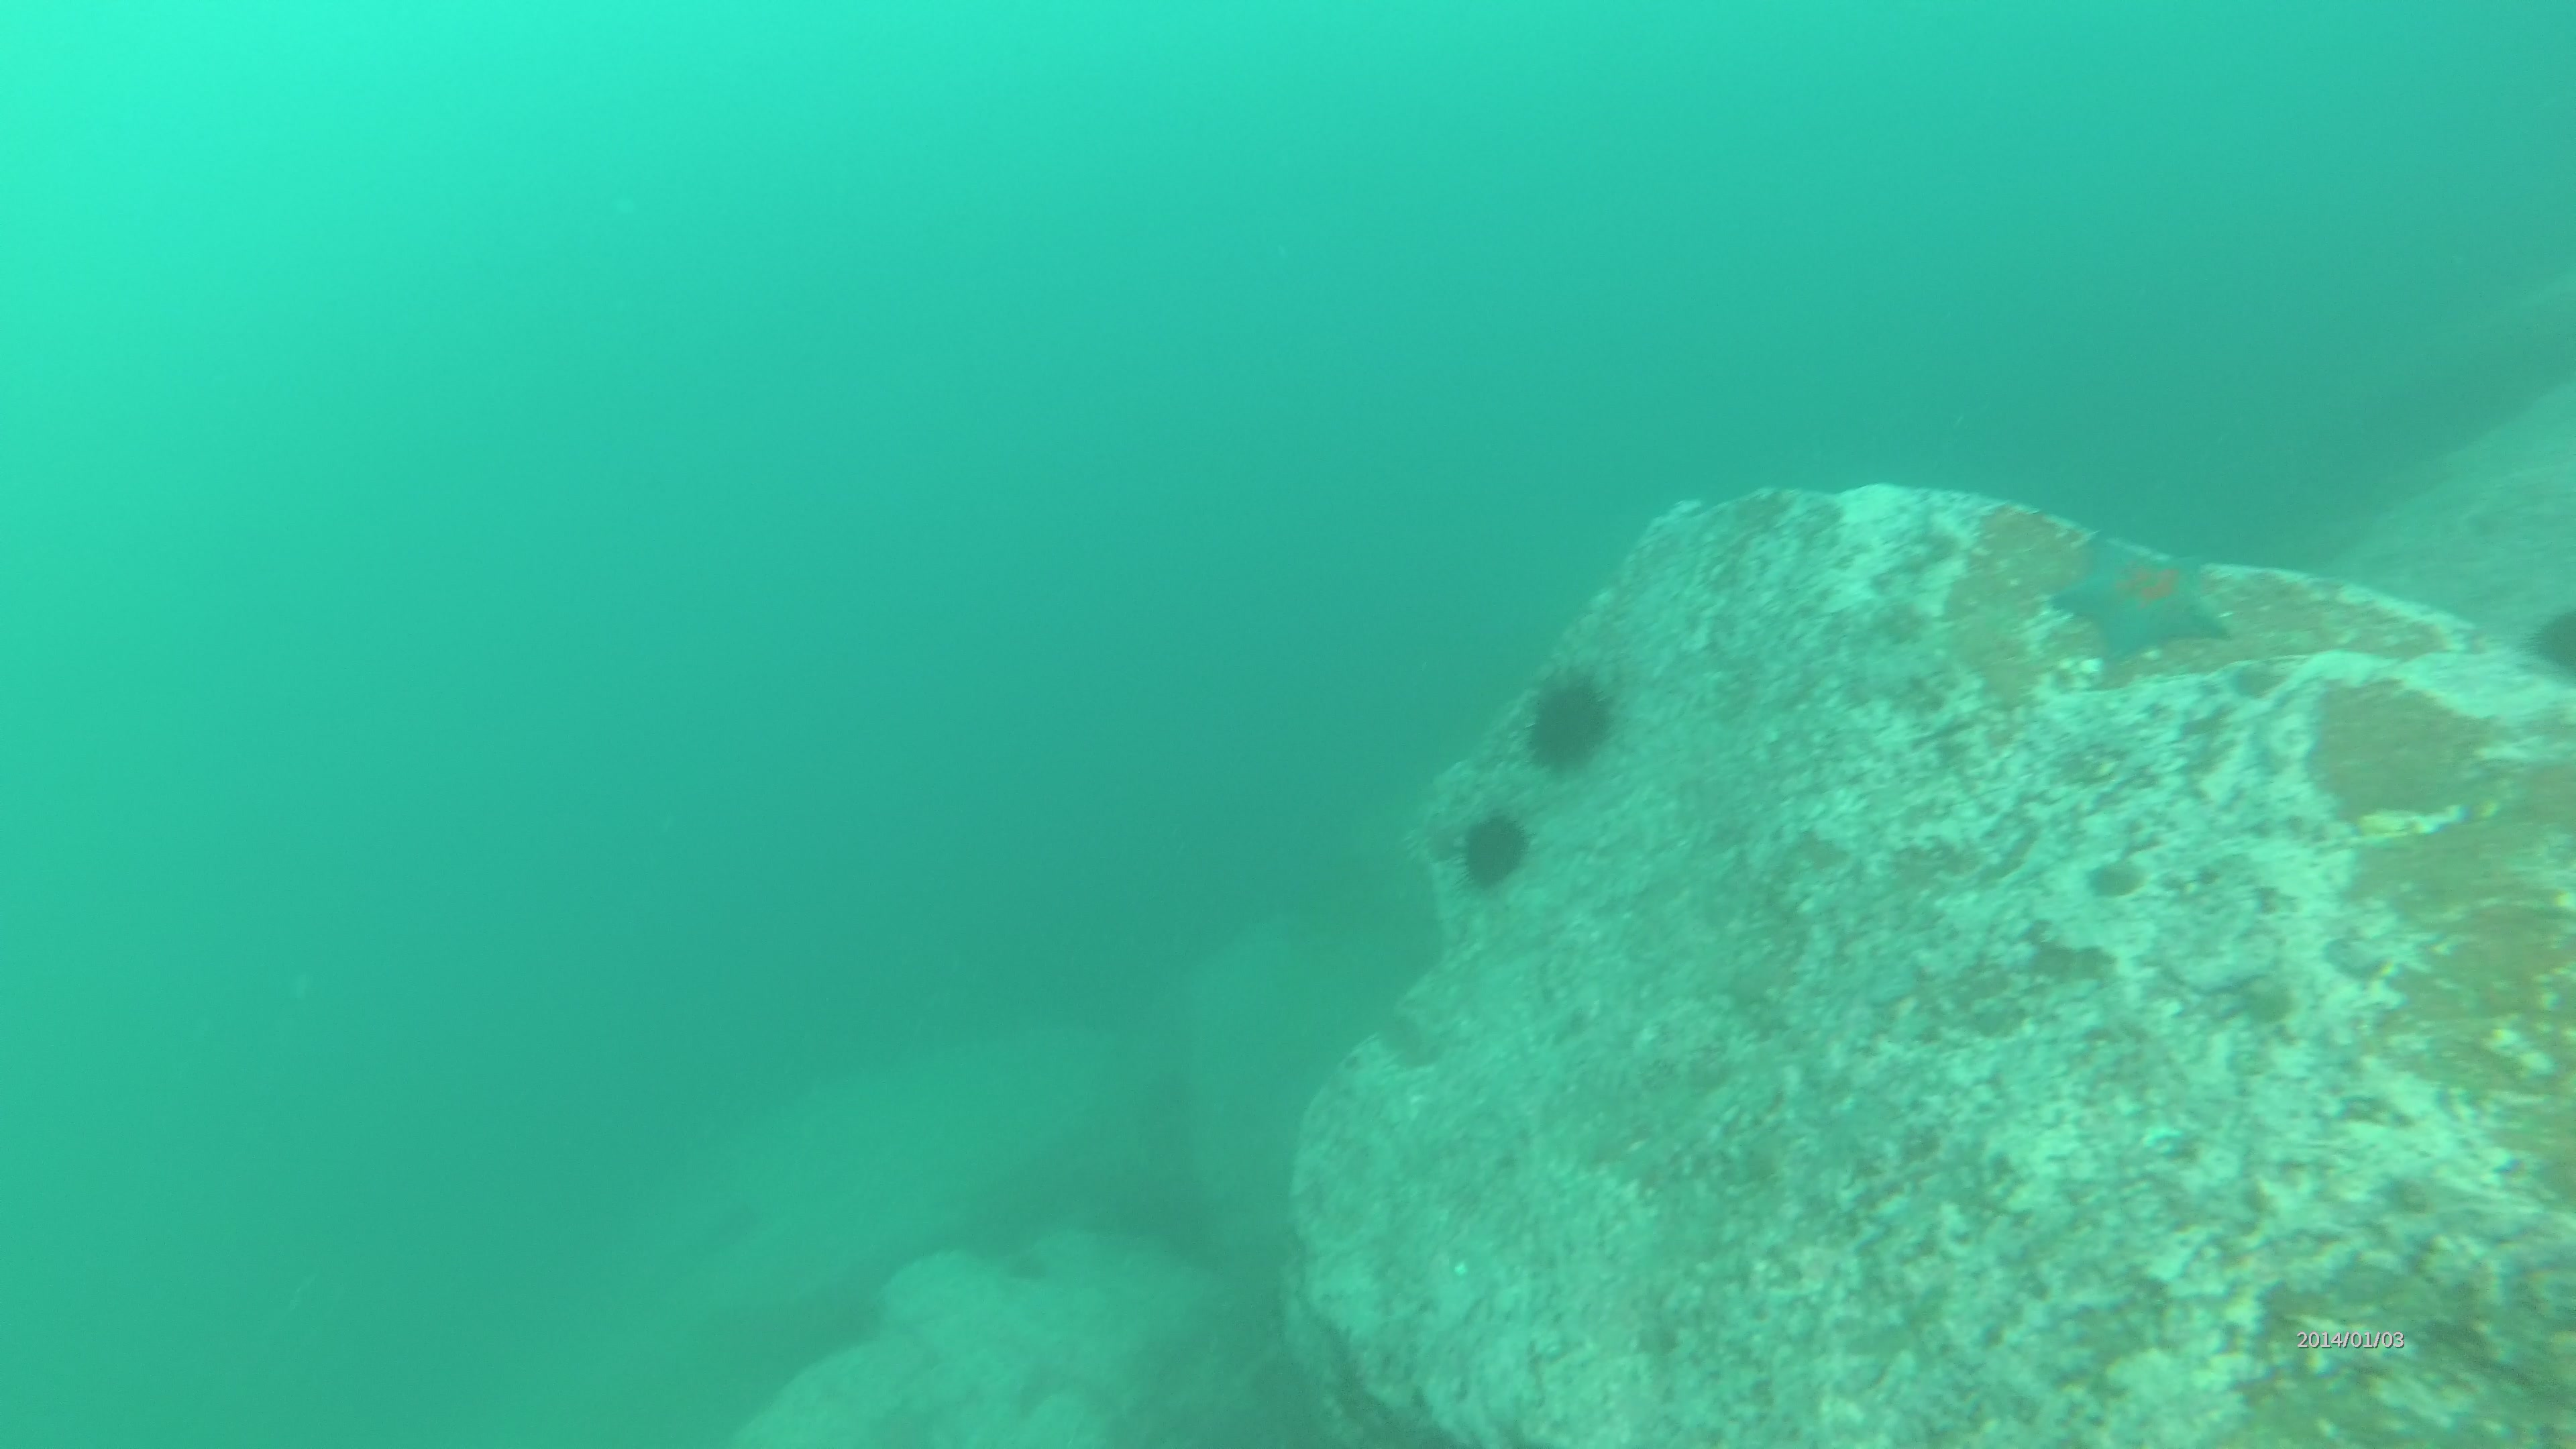echinus: (1513, 655, 1624, 782), (1449, 796, 1539, 902)
starfish: (2051, 515, 2243, 674)
